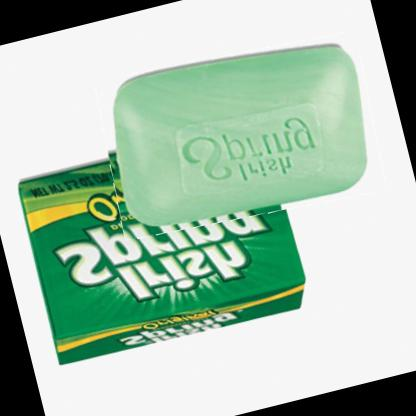soap: (89, 20, 392, 250)
